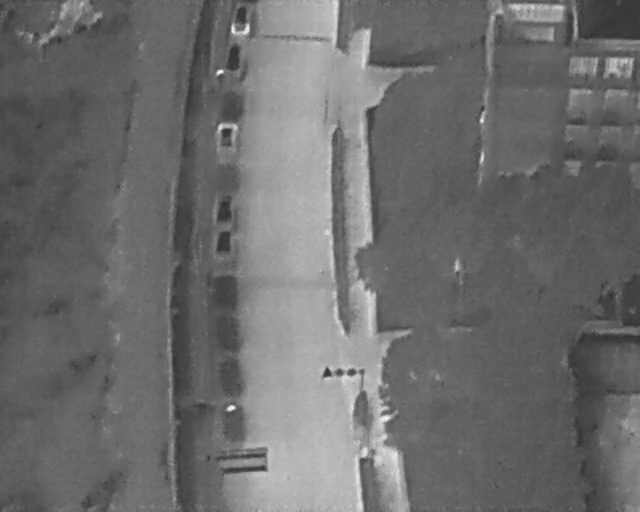Car: (217, 123, 238, 154), (223, 42, 243, 72), (215, 195, 233, 223), (232, 5, 248, 34), (216, 231, 232, 257)
